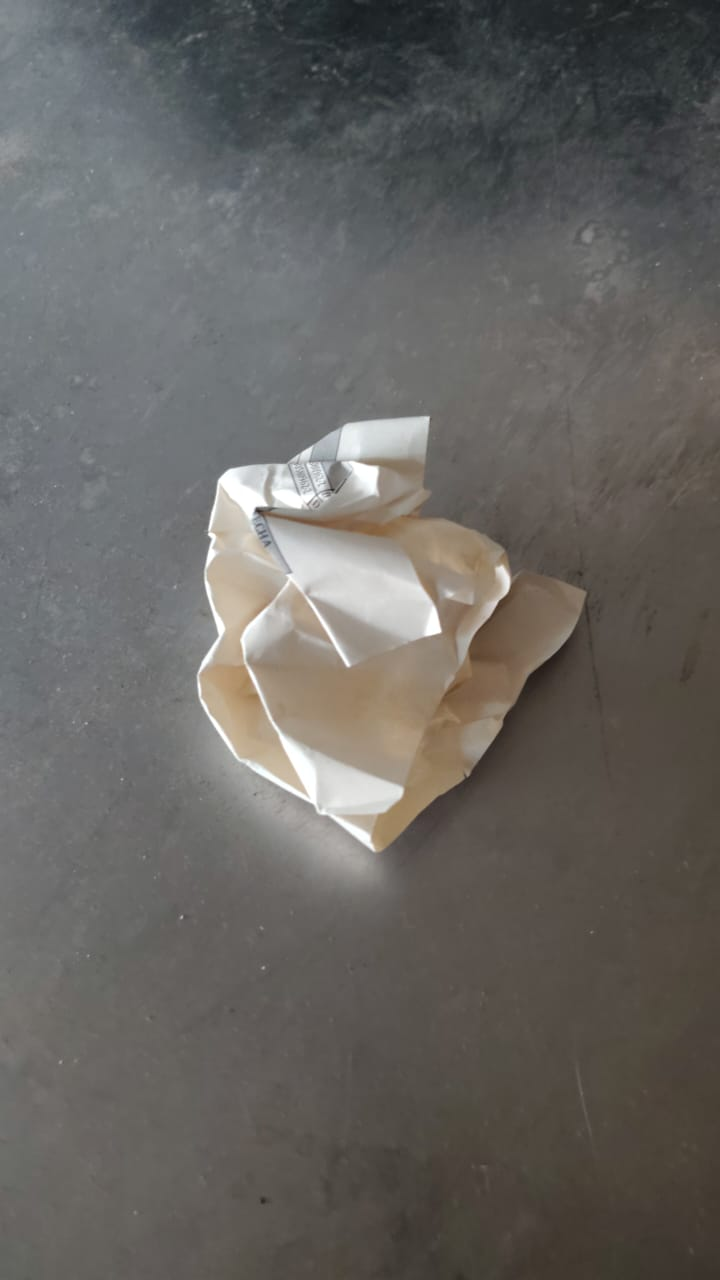Papel: (196, 412, 587, 857)
